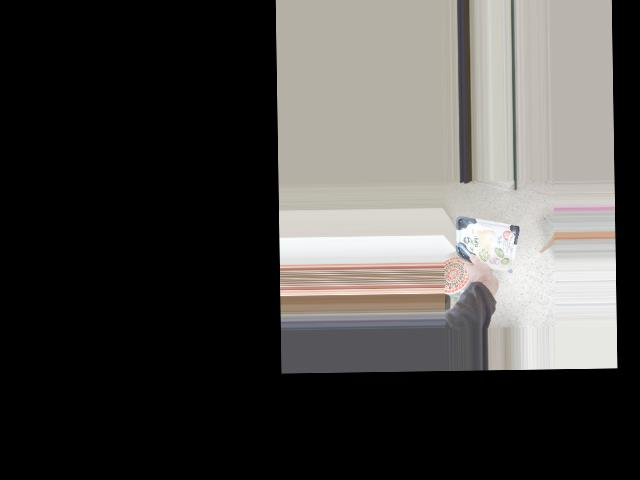cheese: (466, 232, 514, 282)
